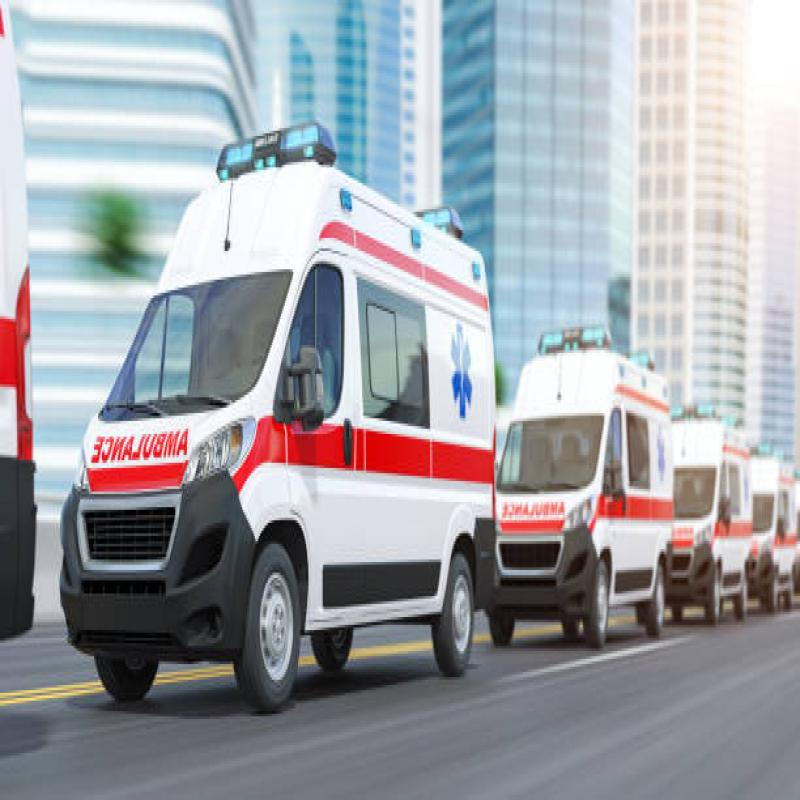AmbulanceSiren: (205, 115, 333, 177), (535, 320, 616, 351)
ambulance: (54, 101, 504, 741), (492, 310, 687, 658)
